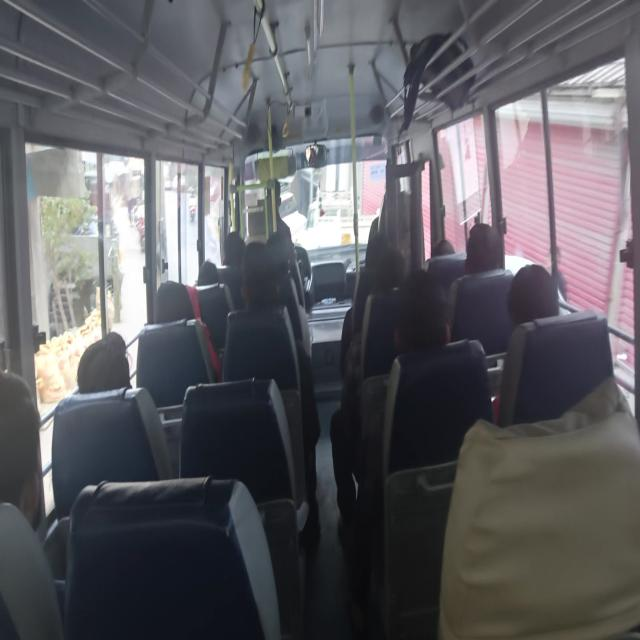person: (0, 381, 45, 524), (506, 267, 565, 343), (396, 291, 460, 361), (88, 328, 140, 404), (151, 276, 210, 342), (462, 229, 505, 277), (246, 243, 270, 302), (192, 246, 222, 293), (375, 250, 403, 292), (370, 235, 395, 271), (221, 228, 242, 269), (438, 235, 458, 260), (267, 234, 295, 251)
